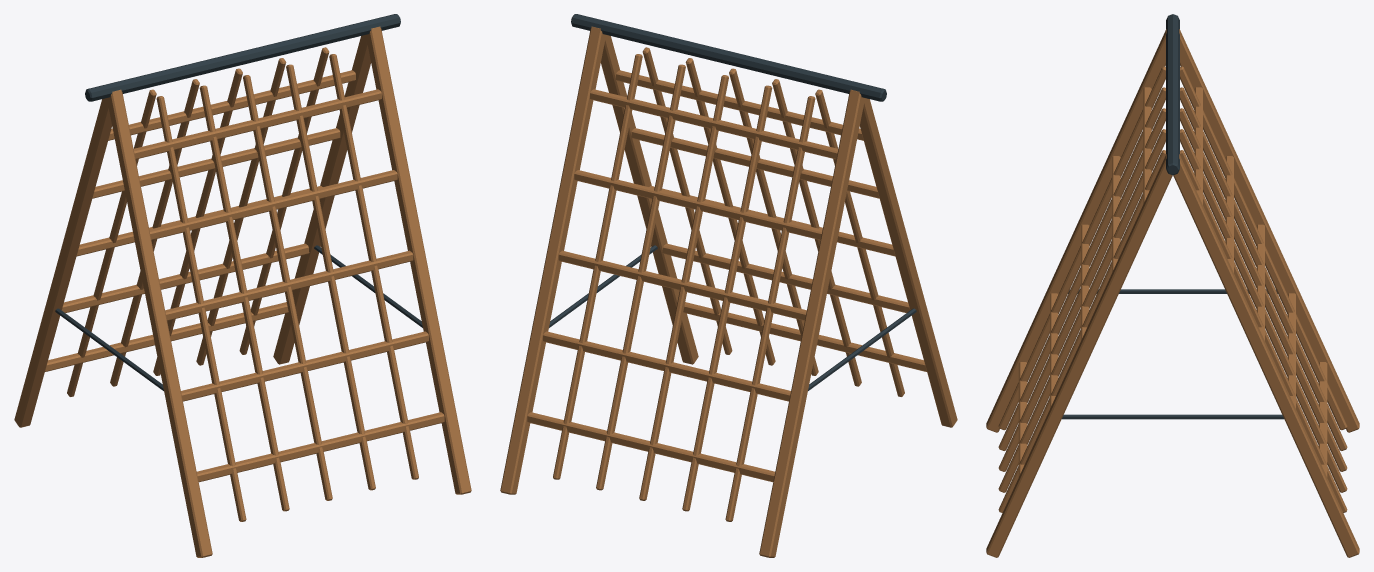
The model's file is b11_a_frame_cucumber_trellis.glb.
3 renders of one model, left to right at view 1: azimuth 30°, elevation 25°; view 2: azimuth 150°, elevation 25°; view 3: azimuth 270°, elevation 25°, orthographic.
Parts seen in each view (by area): view 1: b11_a_frame_cucumber_trellis; view 2: b11_a_frame_cucumber_trellis; view 3: b11_a_frame_cucumber_trellis.
Part boxes in pixels (x1,y1,x2,y2): b11_a_frame_cucumber_trellis: [14, 14, 471, 557]; b11_a_frame_cucumber_trellis: [500, 14, 957, 557]; b11_a_frame_cucumber_trellis: [986, 14, 1359, 557].
Size of the model in its own units: 1.08 by 1.36 by 1.13.
